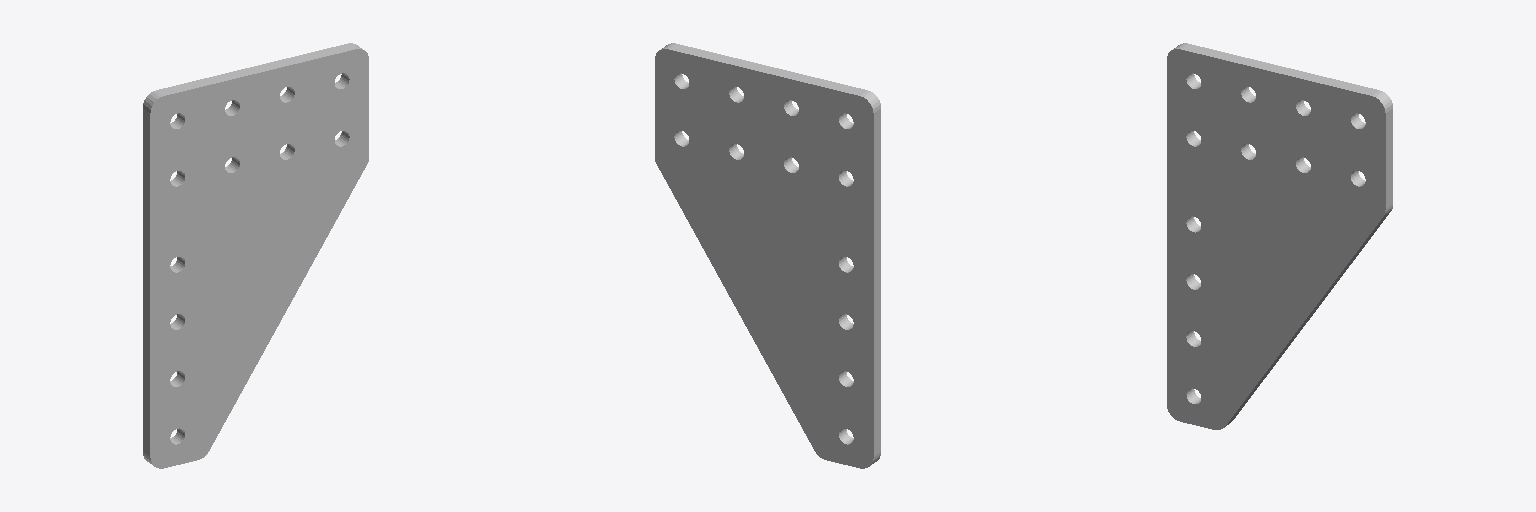
The model's file is GantryCornerPlate.obj.
The picture shows the model from 3 angles: view 1: azimuth 30°, elevation 25°; view 2: azimuth 150°, elevation 25°; view 3: azimuth 330°, elevation 25°; orthographic projection.
Visible parts, largest first — view 1: Root|Gantry_Corner_Plate_(Default)|Default|matte_steel; view 2: Root|Gantry_Corner_Plate_(Default)|Default|matte_steel; view 3: Root|Gantry_Corner_Plate_(Default)|Default|matte_steel.
Boxes of the visible parts, box(x1,y1,x2,y2) form: Root|Gantry_Corner_Plate_(Default)|Default|matte_steel: box(143, 43, 368, 468); Root|Gantry_Corner_Plate_(Default)|Default|matte_steel: box(655, 43, 880, 468); Root|Gantry_Corner_Plate_(Default)|Default|matte_steel: box(1167, 43, 1392, 429).
Bounding box in the file's own units: 0.08 × 0.13 × 0.005.